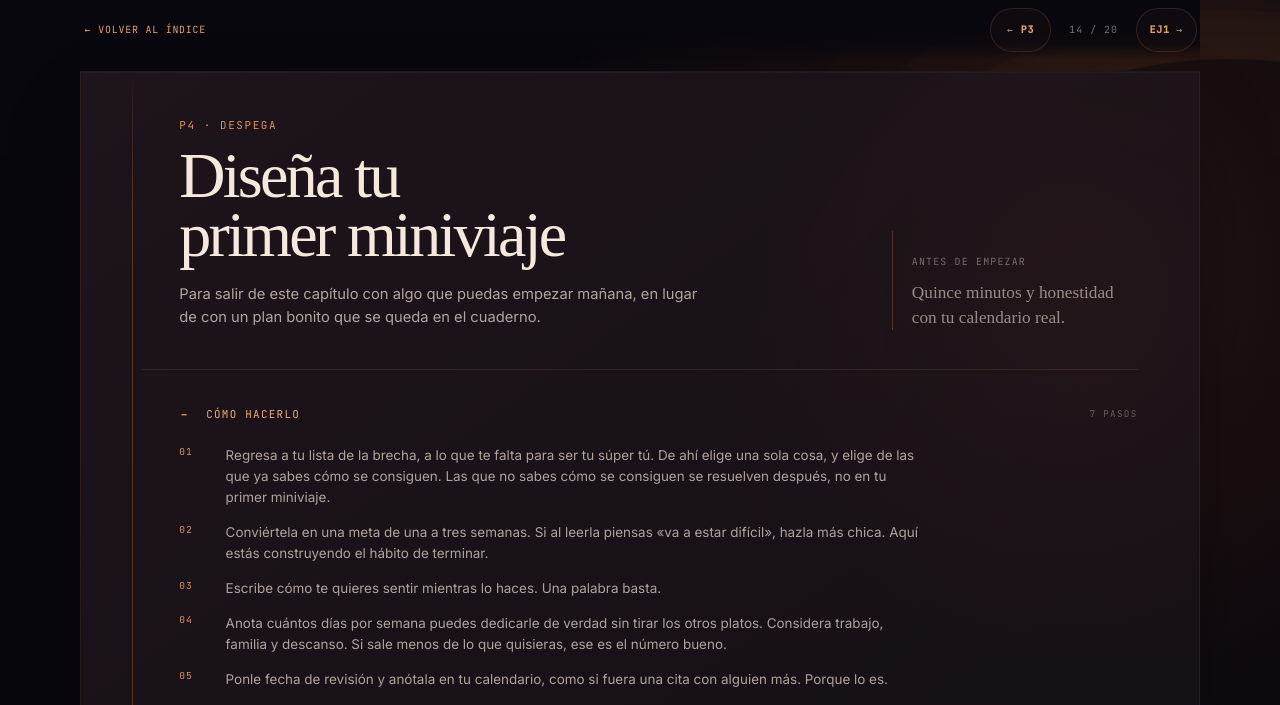
Test case: cuaderno de trabajo › abre una hoja directamente desde su URL y vuelve al indice
Click the button "← Volver al índice": (145,30) [83,8,208,52]
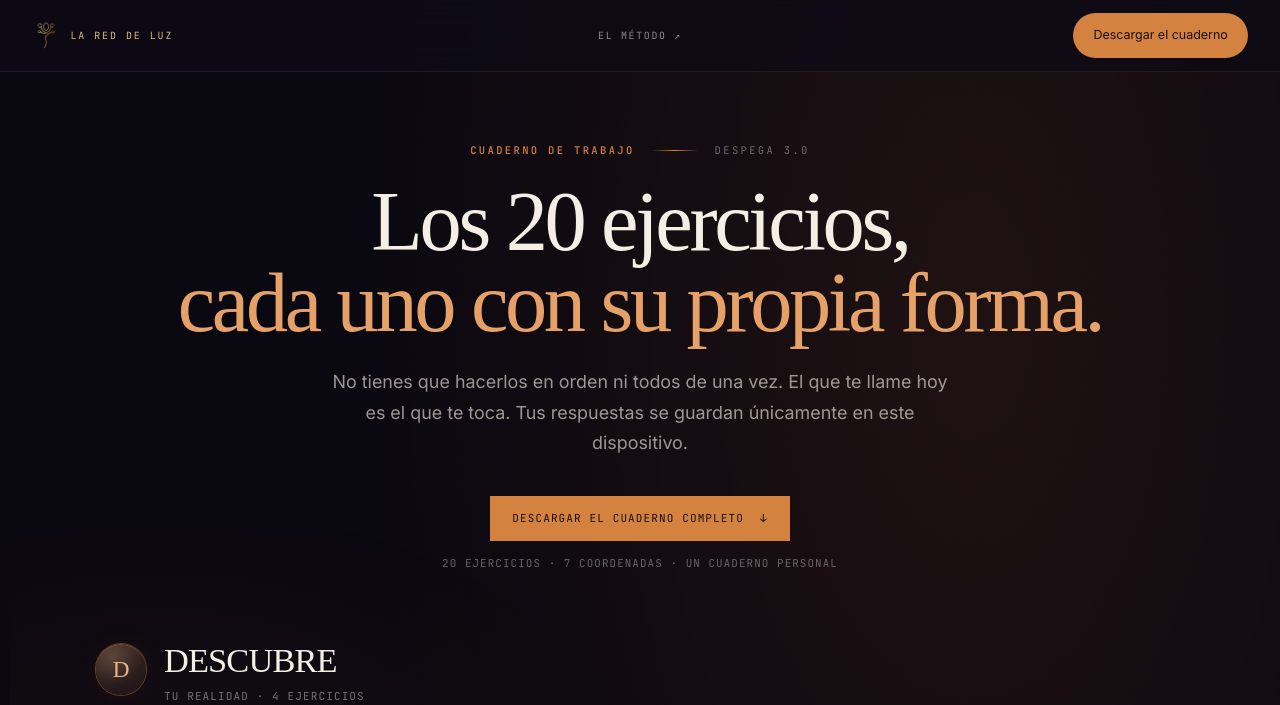
Expected: the heading "Los 20 ejercicios,cada uno con su propia forma." is shown, [178,175,1102,349]
